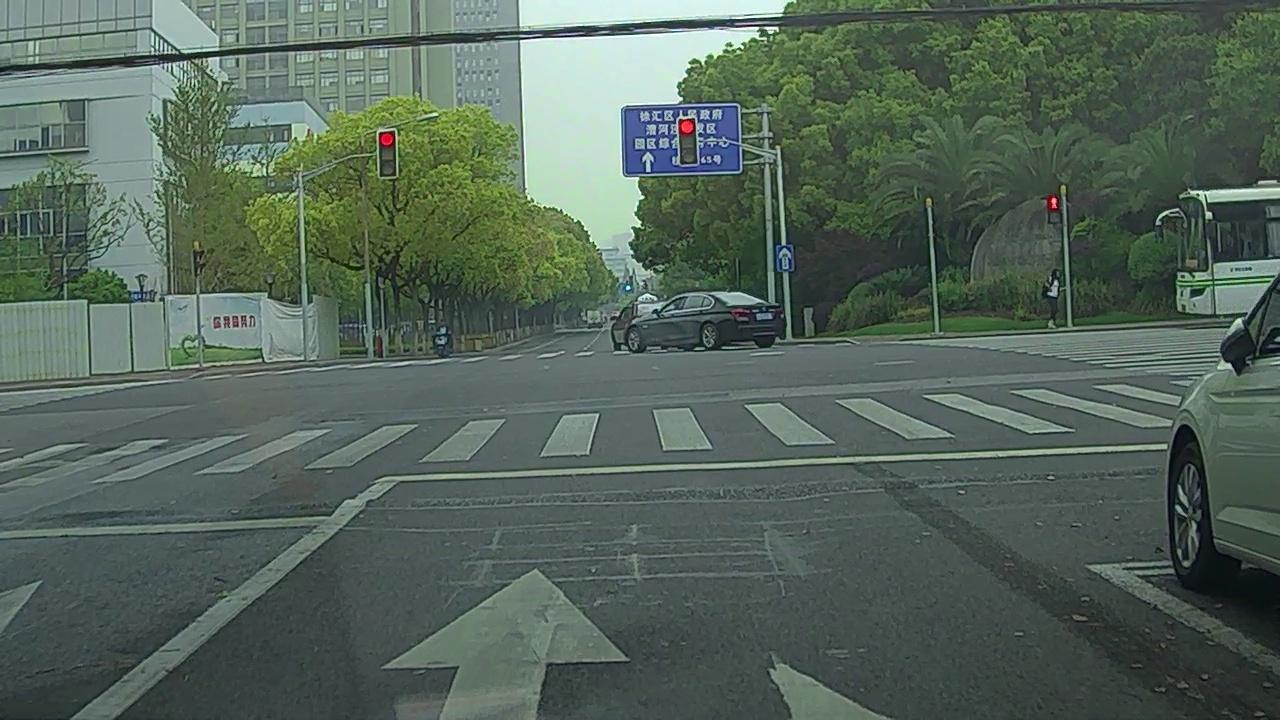traffic_light: (674, 120, 697, 164), (381, 133, 397, 177)
